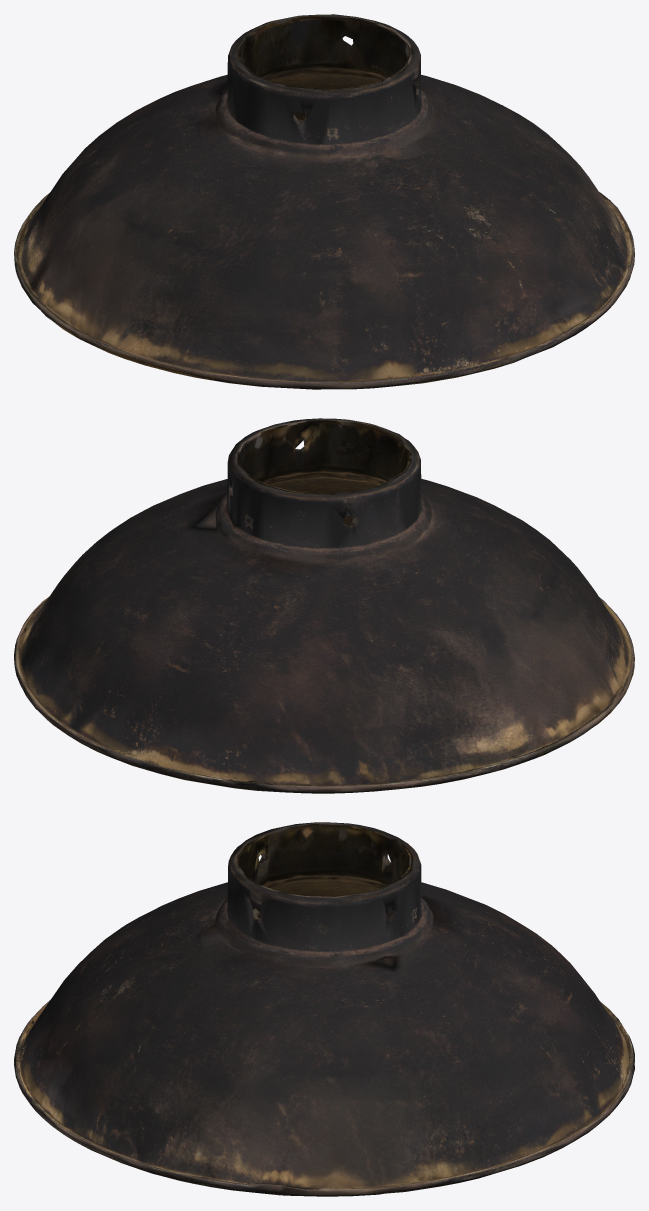
File: LightShell.fbx
3 views of the same model, one above another, from view 1: azimuth 30°, elevation 25°; view 2: azimuth 150°, elevation 25°; view 3: azimuth 270°, elevation 25° (orthographic).
Visible parts, largest first — view 1: mesh_node; view 2: mesh_node; view 3: mesh_node.
Part boxes in pixels (left/top/right/bottom): mesh_node: left=14, top=14, right=634, bottom=389; mesh_node: left=14, top=418, right=634, bottom=793; mesh_node: left=14, top=822, right=634, bottom=1196.
Size of the model in its own units: 190 by 69.77 by 190.
1 material, 1 textured.
